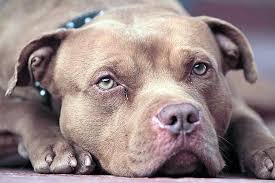Perro Pitbull: (23, 15, 257, 179)
